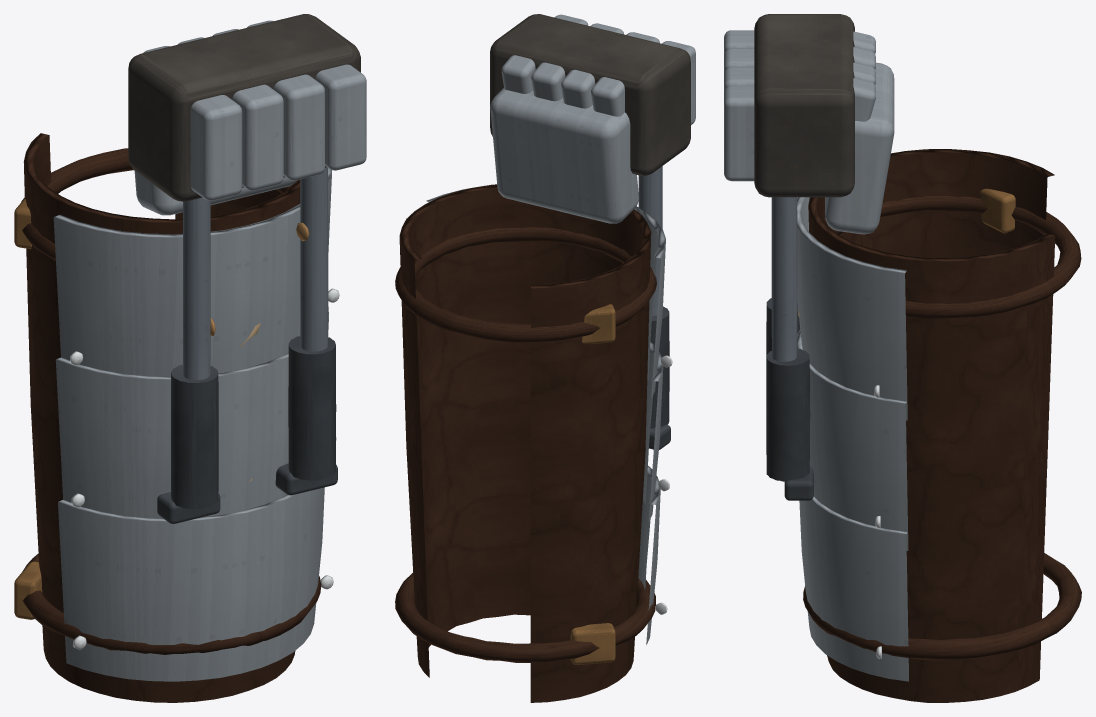
Rendered from power-knuckles.lod1.glb.
The picture shows the model from 3 angles, left to right: view 1: azimuth 30°, elevation 25°; view 2: azimuth 150°, elevation 25°; view 3: azimuth 270°, elevation 25°; orthographic projection. The views are drawn at different scales.
Parts seen in each view (by area): view 1: steel / forged blade steel, leather / oiled leather wrap, iron / hammer-scaled wrought iron, darksteel / oil-blackened fittings, alloy / machined anodized alloy, bronze / cast bronze with patina, edge / honed bright bevel; view 2: leather / oiled leather wrap, steel / forged blade steel, iron / hammer-scaled wrought iron, bronze / cast bronze with patina, darksteel / oil-blackened fittings, alloy / machined anodized alloy; view 3: leather / oiled leather wrap, steel / forged blade steel, iron / hammer-scaled wrought iron, darksteel / oil-blackened fittings, alloy / machined anodized alloy, bronze / cast bronze with patina.
Part boxes in pixels (x1=…): steel / forged blade steel: x1=53, y1=20, x2=366, y2=681; leather / oiled leather wrap: x1=21, y1=133, x2=321, y2=702; iron / hammer-scaled wrought iron: x1=128, y1=14, x2=360, y2=201; darksteel / oil-blackened fittings: x1=157, y1=336, x2=337, y2=523; alloy / machined anodized alloy: x1=183, y1=167, x2=328, y2=380; bronze / cast bronze with patina: x1=14, y1=198, x2=42, y2=619; edge / honed bright bevel: x1=70, y1=288, x2=339, y2=649; leather / oiled leather wrap: x1=395, y1=184, x2=656, y2=702; steel / forged blade steel: x1=426, y1=14, x2=695, y2=644; iron / hammer-scaled wrought iron: x1=490, y1=14, x2=690, y2=175; bronze / cast bronze with patina: x1=570, y1=304, x2=615, y2=664; darksteel / oil-blackened fittings: x1=649, y1=306, x2=670, y2=449; alloy / machined anodized alloy: x1=638, y1=166, x2=662, y2=315; leather / oiled leather wrap: x1=803, y1=149, x2=1081, y2=702; steel / forged blade steel: x1=724, y1=30, x2=908, y2=681; iron / hammer-scaled wrought iron: x1=754, y1=14, x2=854, y2=197; darksteel / oil-blackened fittings: x1=766, y1=298, x2=813, y2=500; alloy / machined anodized alloy: x1=771, y1=197, x2=797, y2=361; bronze / cast bronze with patina: x1=980, y1=188, x2=1015, y2=233.
Bounding box in the file's own units: 0.1579 × 0.3626 × 0.1952.
9 materials, 7 textured.
